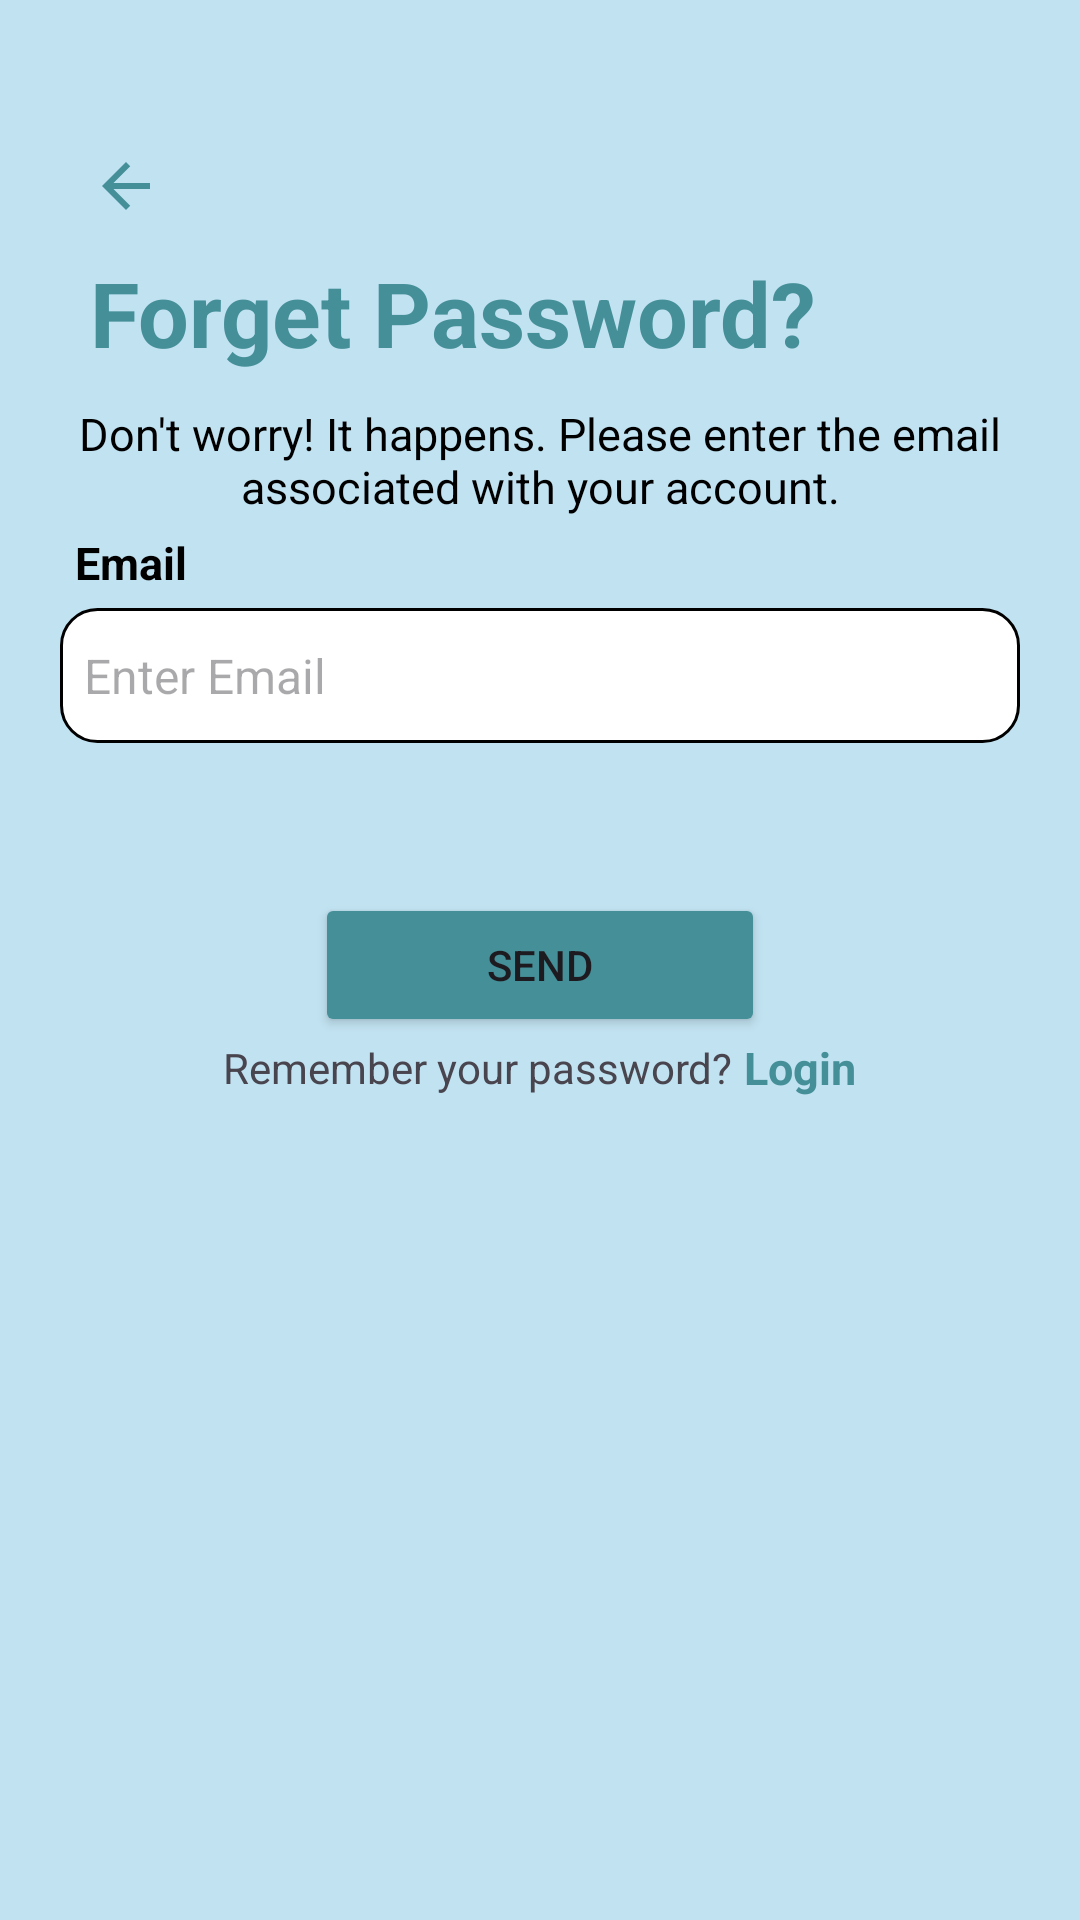

Screen size 1080px x 1920px. Icon name, then its box in pixels as (x1, y1, x2, y2):
back arrow: (102, 162, 150, 210)
